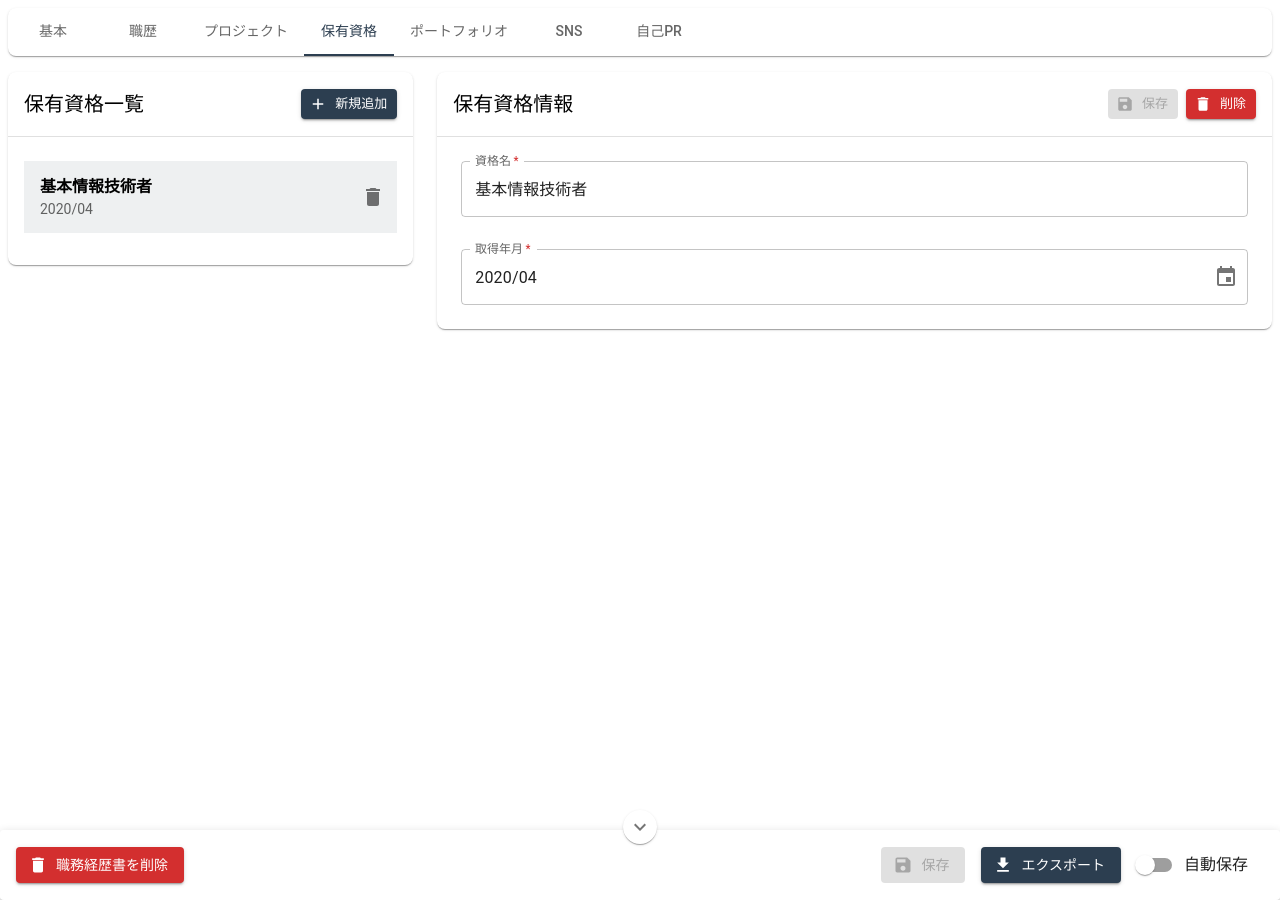
Test case: ResumeContainer › 職務経歴書が見つからないエラー › 保有資格 の削除で見つからなかったときは、見つからない画面に切り替えること
Expected: the tab "基本" is shown, [8, 8, 98, 56]
Step 1. Click the button "削除" → (1221, 104), box [1186, 89, 1256, 119]
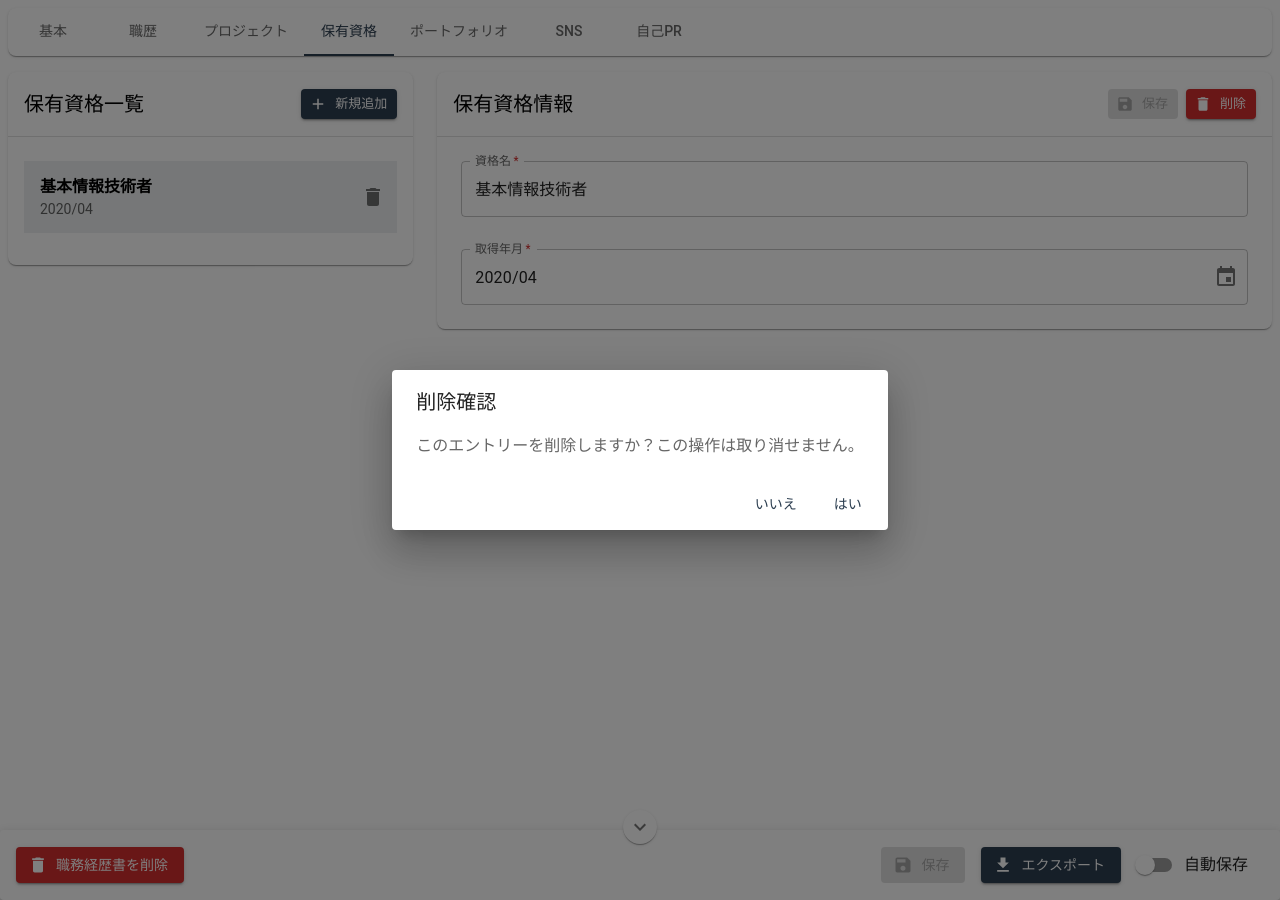
Step 2. Click the button "はい" → (848, 504), box [816, 486, 880, 522]
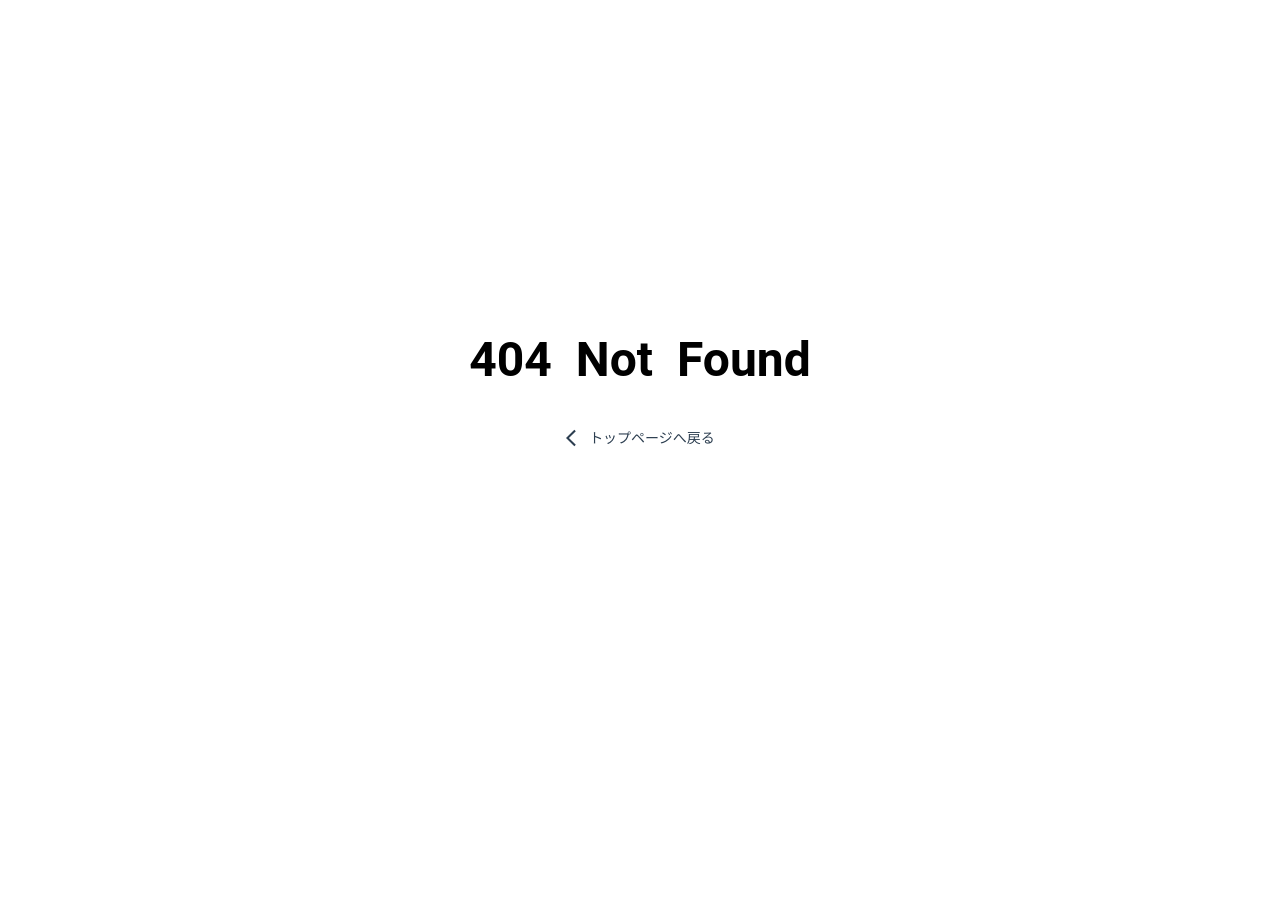
Now the heading "404 Not Found" is shown, box [469, 332, 811, 388]
